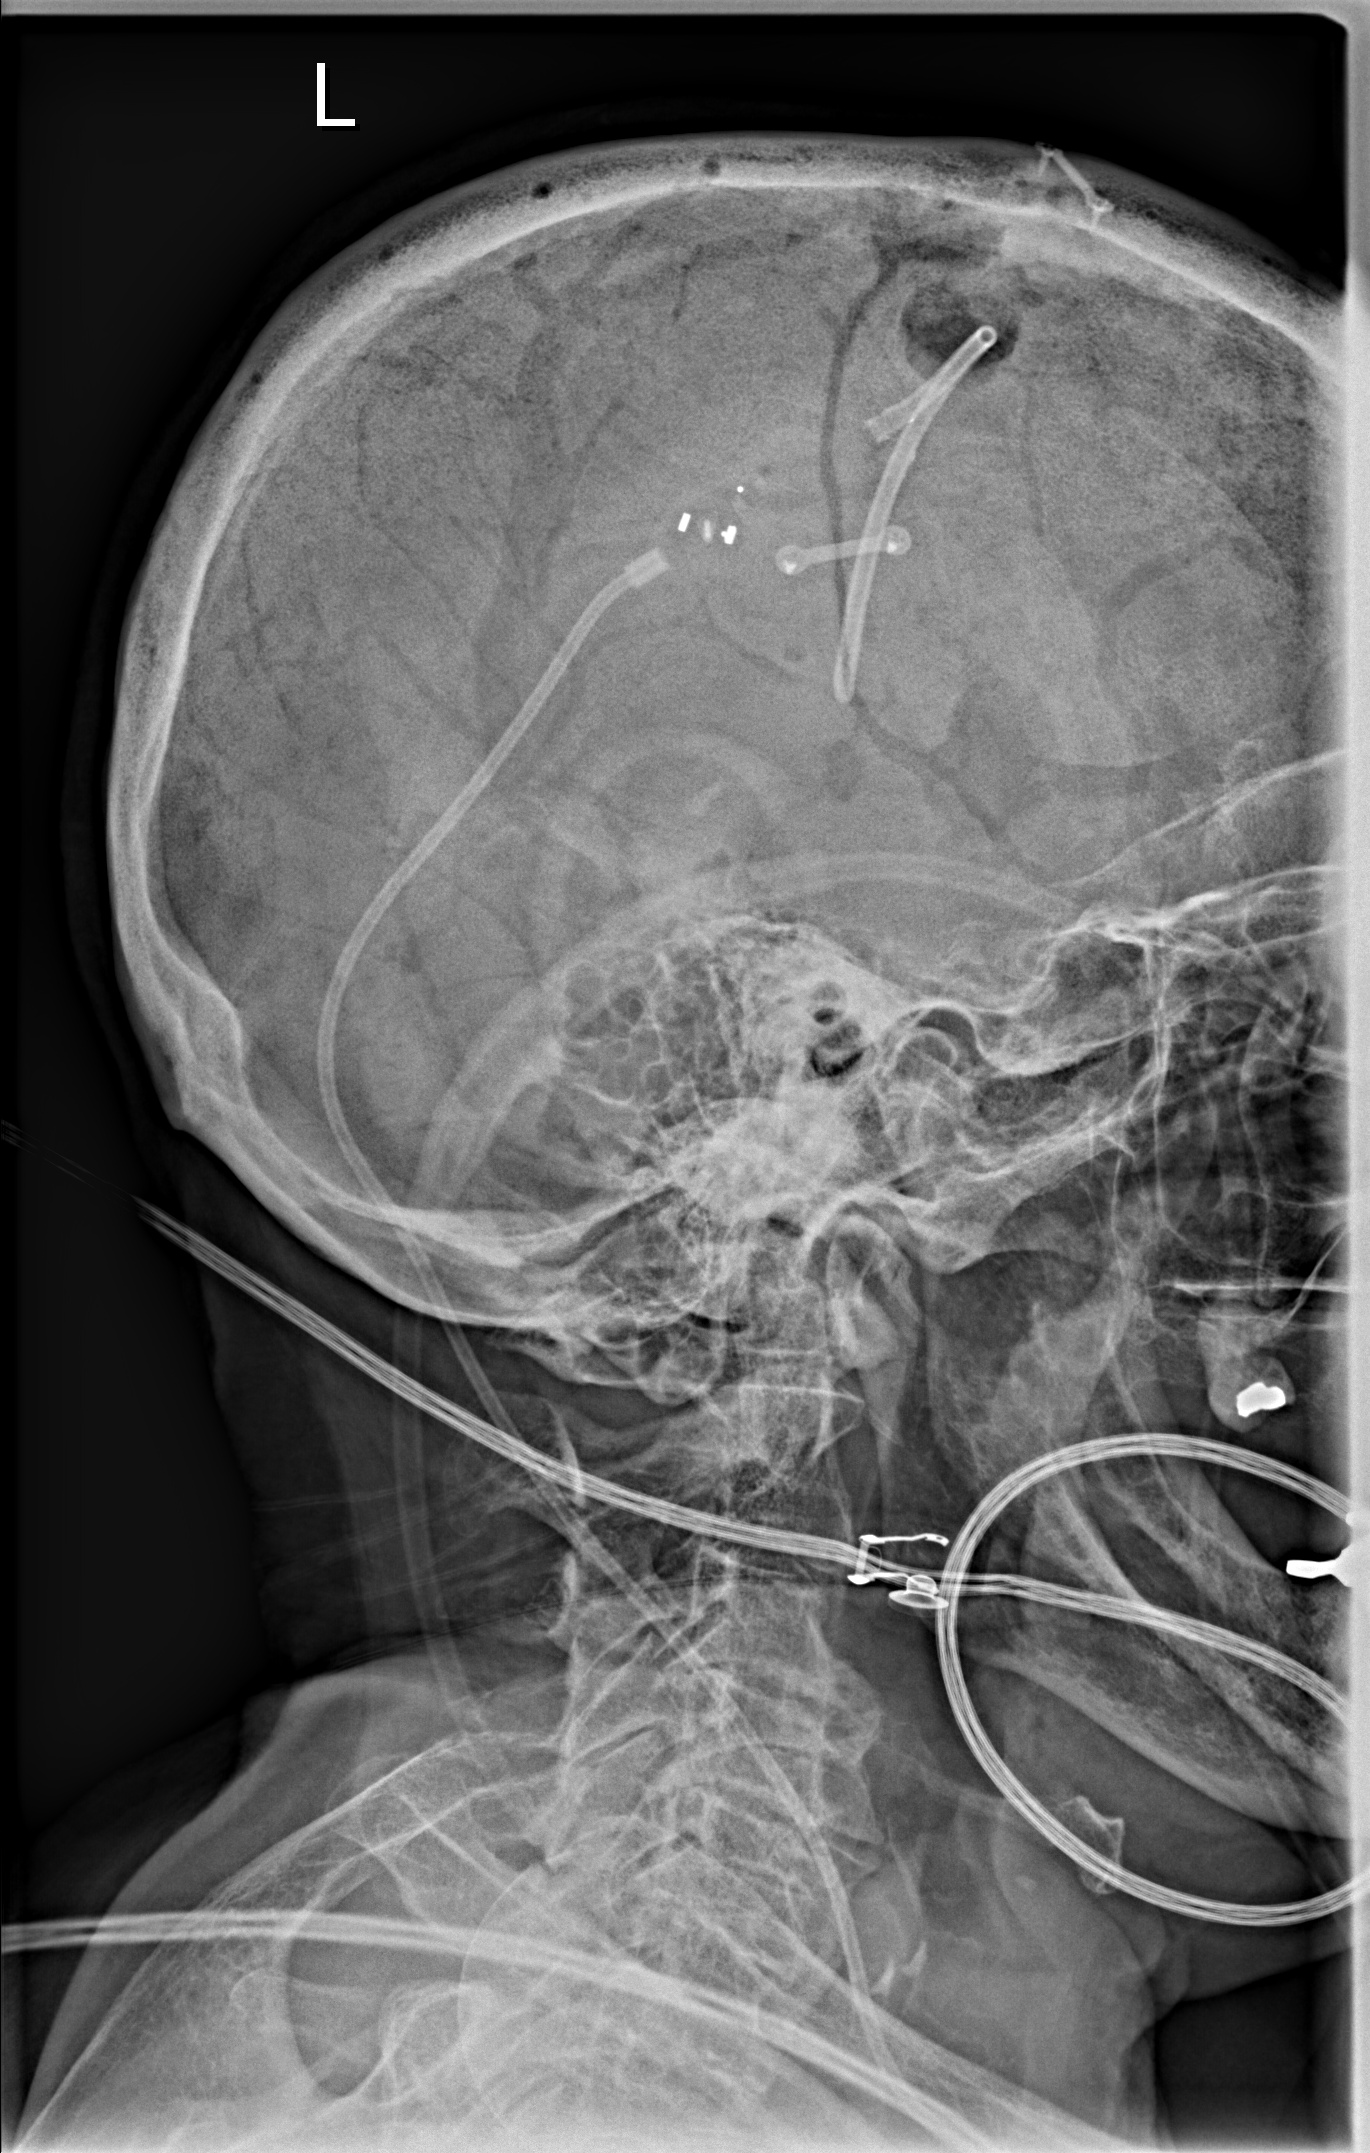Codman Certas: (653, 468, 772, 573)
